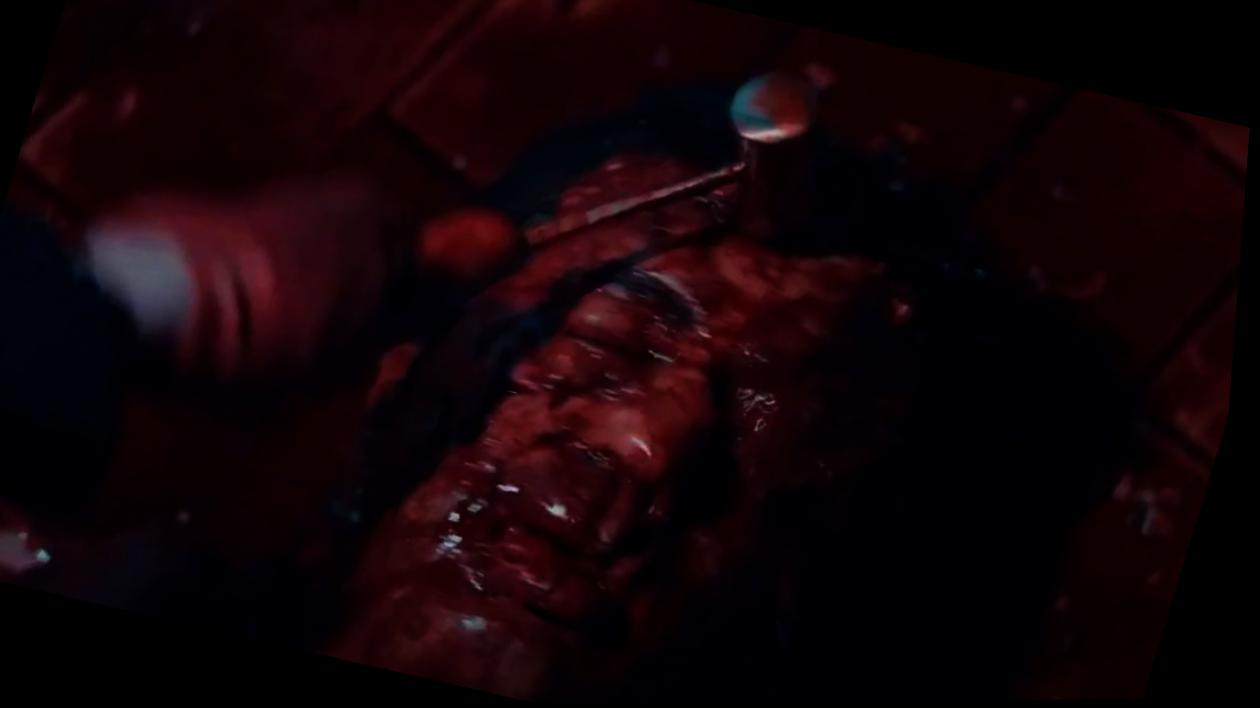Fire: (6, 0, 1252, 702), (329, 146, 926, 705), (90, 388, 365, 583), (0, 505, 50, 578)
